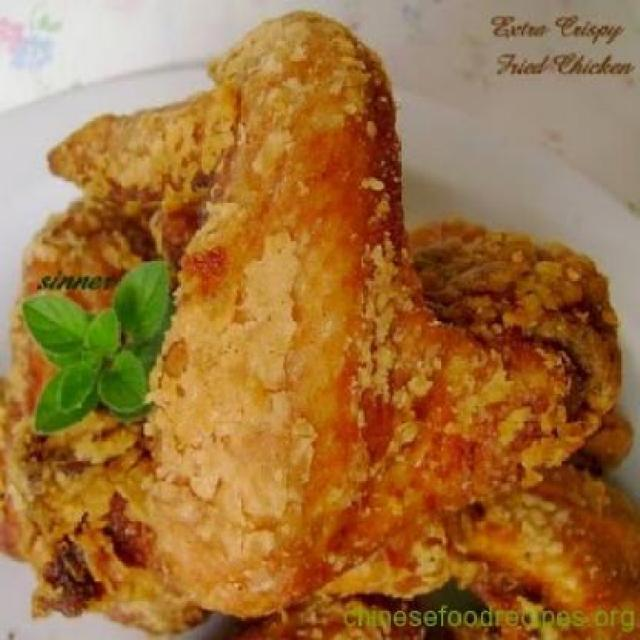Deep fried chicken wing: (107, 51, 590, 600)
